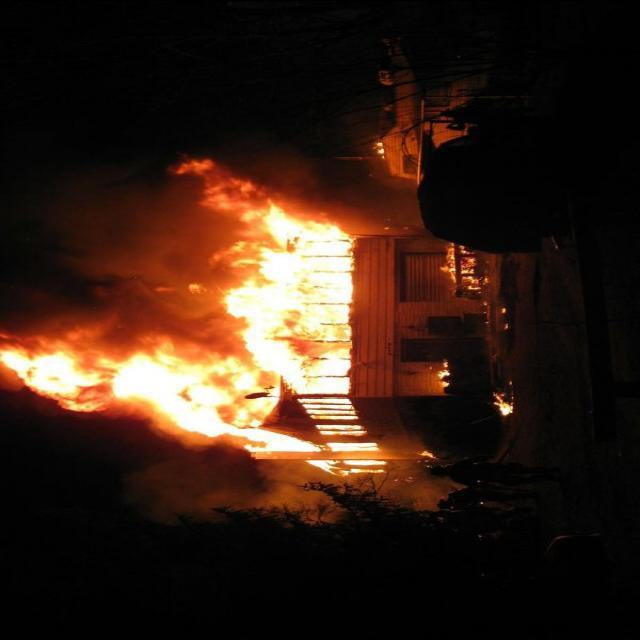Fire: (3, 148, 390, 482), (438, 246, 490, 294), (486, 388, 516, 416), (434, 355, 453, 387), (408, 448, 440, 460), (376, 140, 386, 155)
